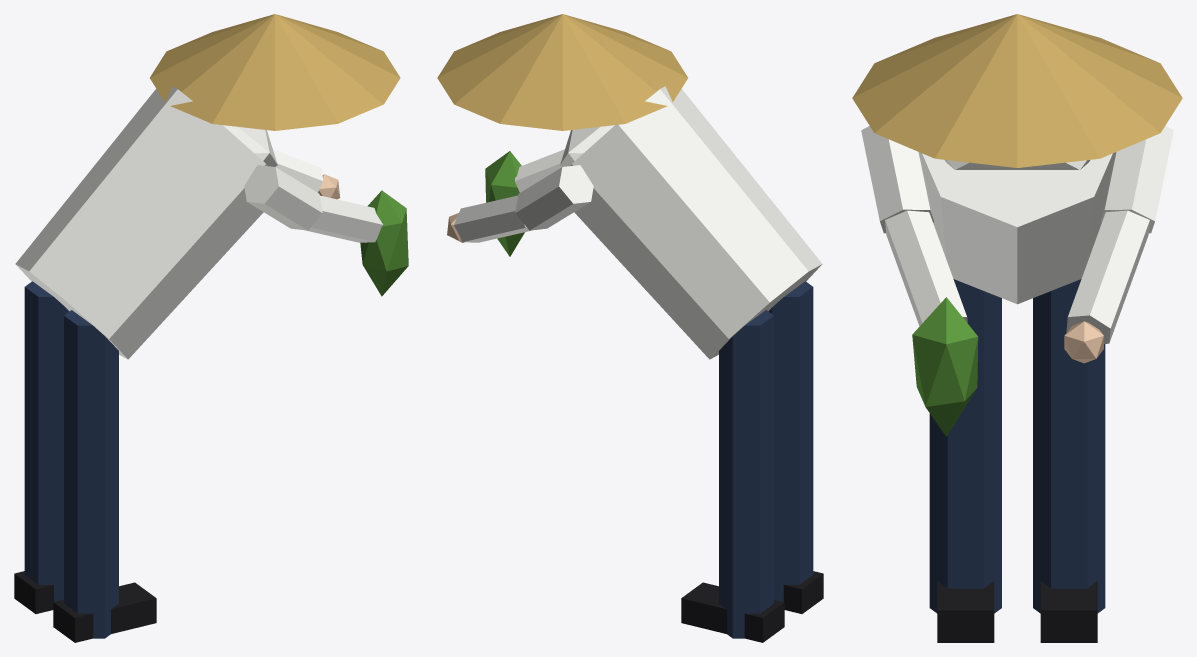
Rendered from risbonde.glb.
3 views of the same model, side by side, from view 1: azimuth 30°, elevation 25°; view 2: azimuth 150°, elevation 25°; view 3: azimuth 270°, elevation 25° (orthographic). The views are drawn at different scales.
Parts seen in each view (by area): view 1: risbonde; view 2: risbonde; view 3: risbonde.
Boxes of the visible parts, bbox=[...] form: risbonde: bbox=[14, 14, 408, 642]; risbonde: bbox=[437, 14, 823, 642]; risbonde: bbox=[852, 14, 1182, 642].
Bounding box in the file's own units: 1.04 × 1.55 × 0.64.
